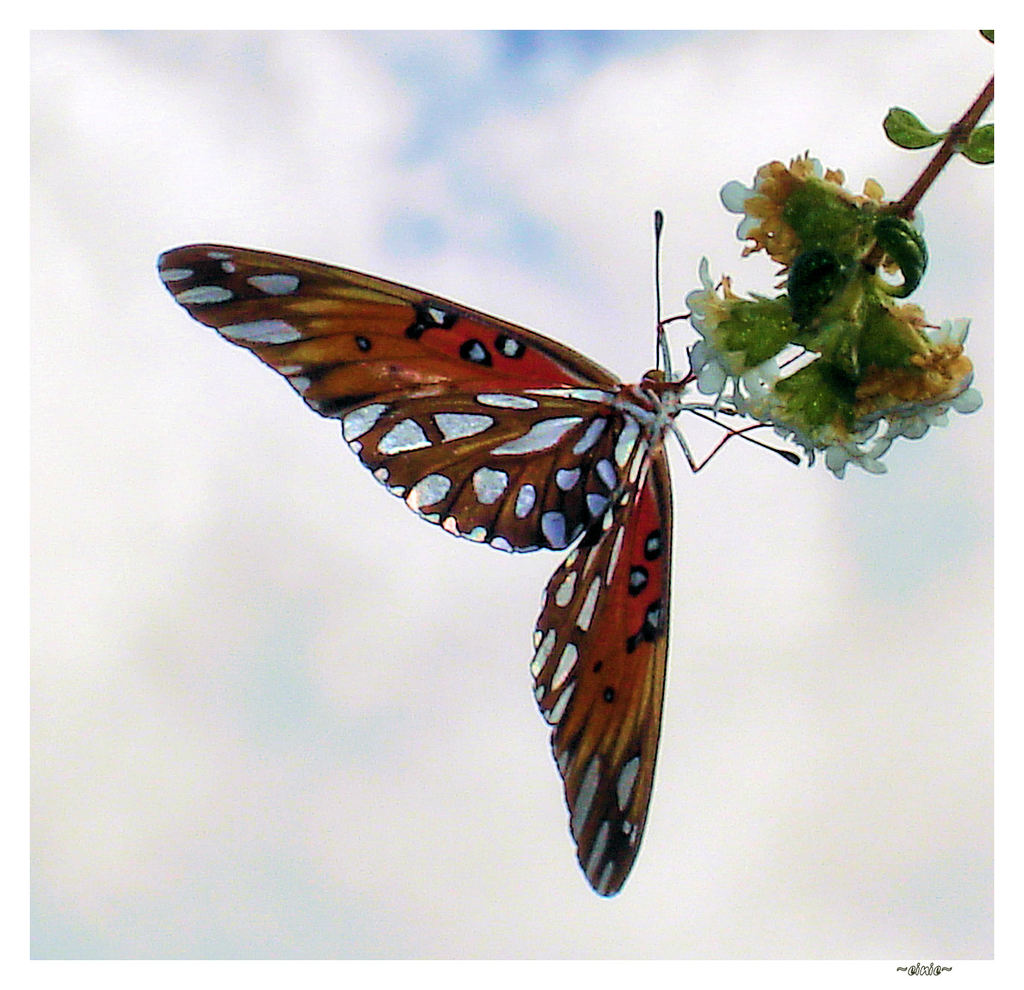Butterfly: (145, 219, 693, 906)
